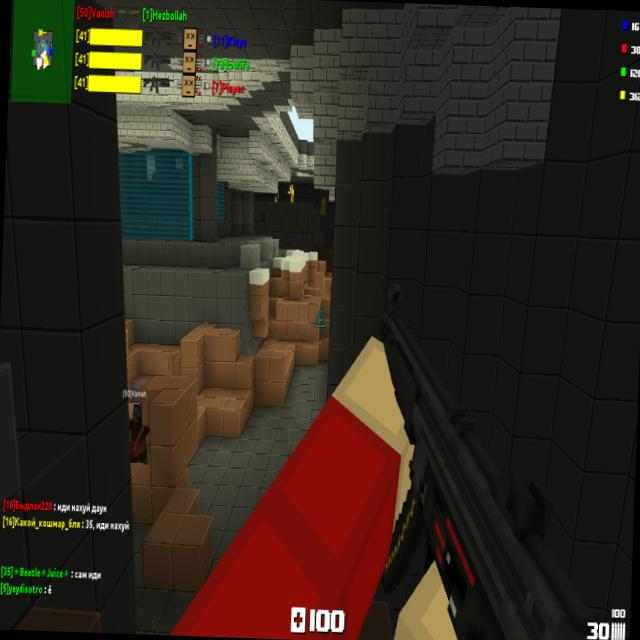enemy: (287, 184, 294, 202), (272, 191, 278, 202)
